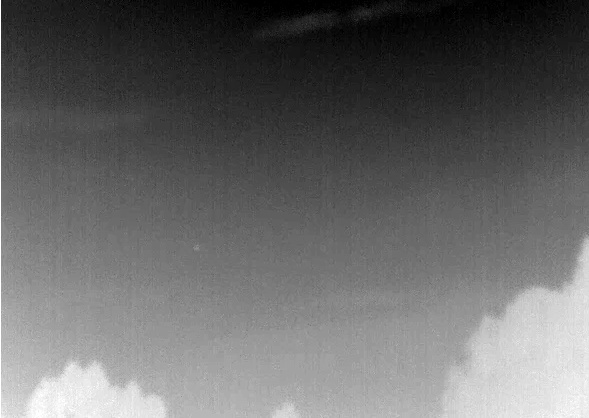dim target: (192, 244, 201, 252)
